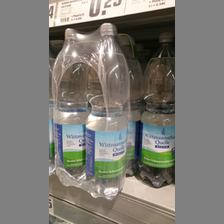water: (86, 23, 130, 200), (138, 31, 175, 187), (53, 27, 88, 185)
